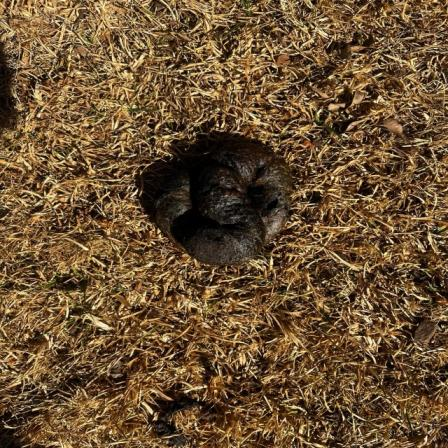dog-poop: (138, 128, 304, 270)
